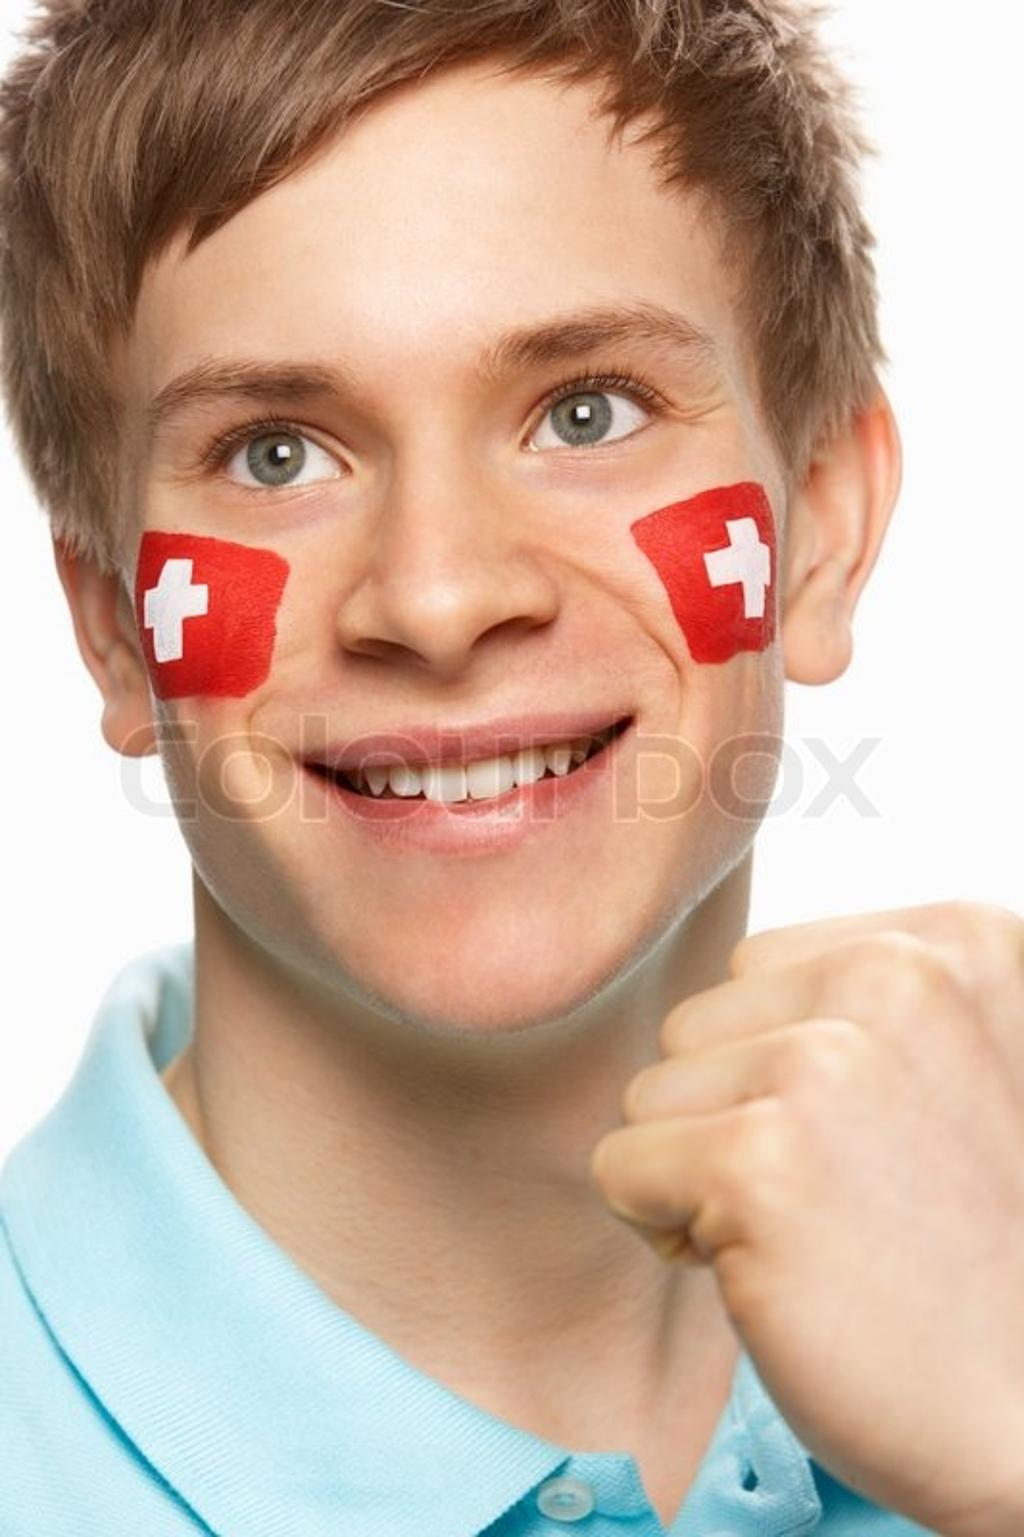face: (123, 108, 790, 1039)
